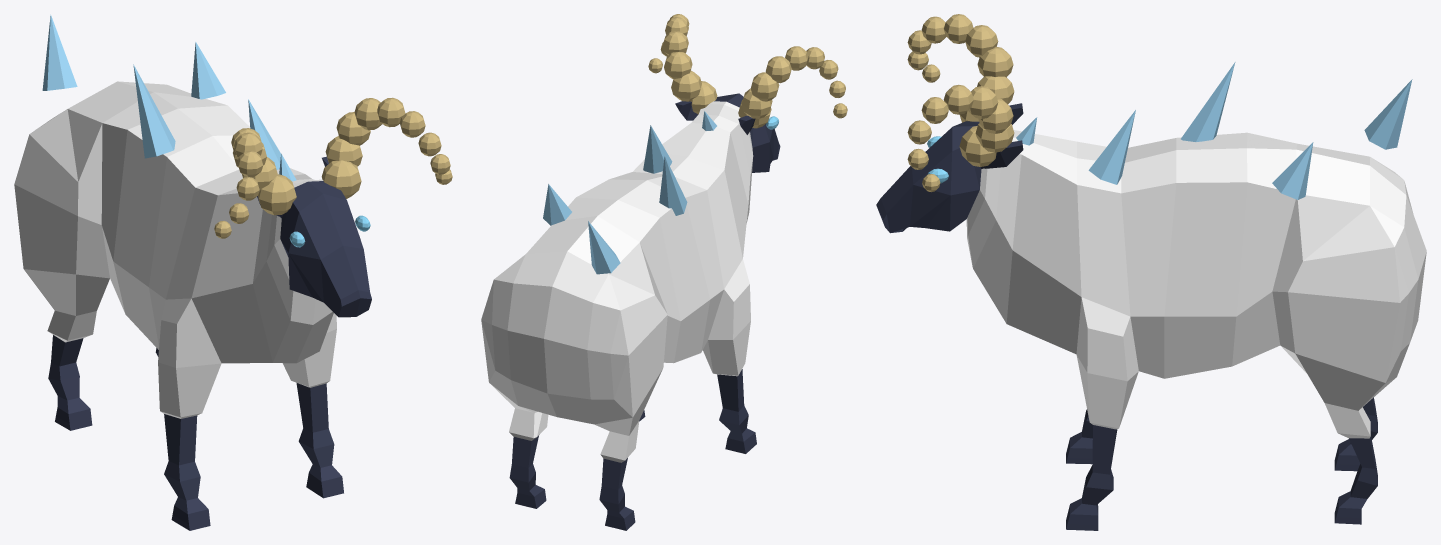
The model's file is StormRam.fbx.
3 views of the same model, side by side, from view 1: azimuth 30°, elevation 25°; view 2: azimuth 150°, elevation 25°; view 3: azimuth 270°, elevation 25° (orthographic). The views are drawn at different scales.
Parts seen in each view (by area): view 1: Body, LegFL, Deco_Horns, Head, Glow_a0dcff, LegFR, LegBL; view 2: Body, Deco_Horns, LegFL, Glow_a0dcff, LegBL, LegBR, Head; view 3: Body, LegFR, Deco_Horns, Head, Glow_a0dcff, LegBR, LegBL, LegFL.
Part boxes in pixels (<box>): Body: <box>14,81,333,363</box>; LegFL: <box>158,298,221,530</box>; Deco_Horns: <box>214,97,452,238</box>; Head: <box>257,156,371,317</box>; Glow_a0dcff: <box>42,14,296,181</box>; LegFR: <box>282,313,343,498</box>; LegBL: <box>47,310,96,430</box>; Body: <box>481,104,753,435</box>; Deco_Horns: <box>648,14,847,128</box>; LegFL: <box>703,259,756,453</box>; Glow_a0dcff: <box>543,111,716,274</box>; LegBL: <box>594,418,639,530</box>; LegBR: <box>489,383,548,508</box>; Head: <box>675,93,780,172</box>; Body: <box>966,130,1426,410</box>; LegFR: <box>1066,297,1164,530</box>; Deco_Horns: <box>907,14,1014,192</box>; Head: <box>876,103,1023,233</box>; Glow_a0dcff: <box>1016,62,1412,199</box>; LegBR: <box>1324,378,1395,524</box>; LegBL: <box>1334,397,1377,471</box>; LegFL: <box>1066,409,1092,464</box>.
Bounding box in the file's own units: 2.62 × 4.59 × 5.2.
Materials: 3 (1 with a texture image).
